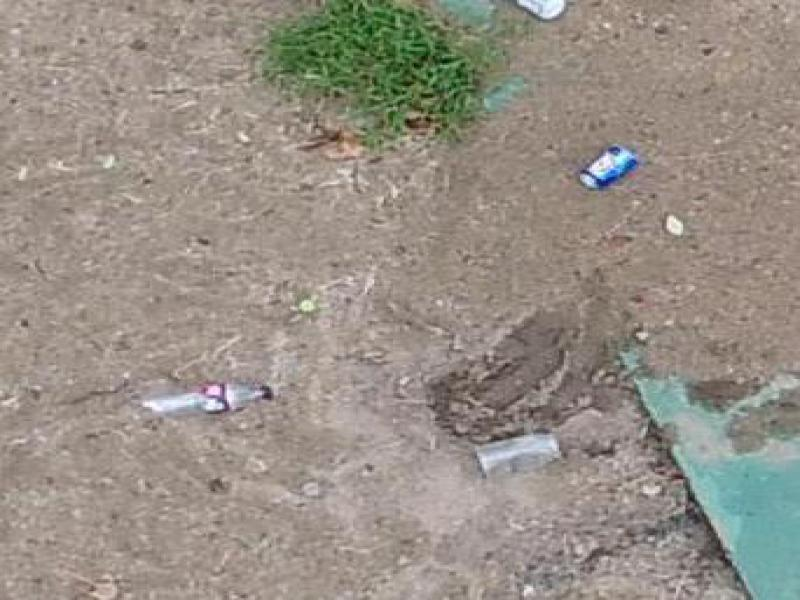bottle: (122, 376, 280, 430), (467, 431, 571, 482), (567, 138, 647, 198)
